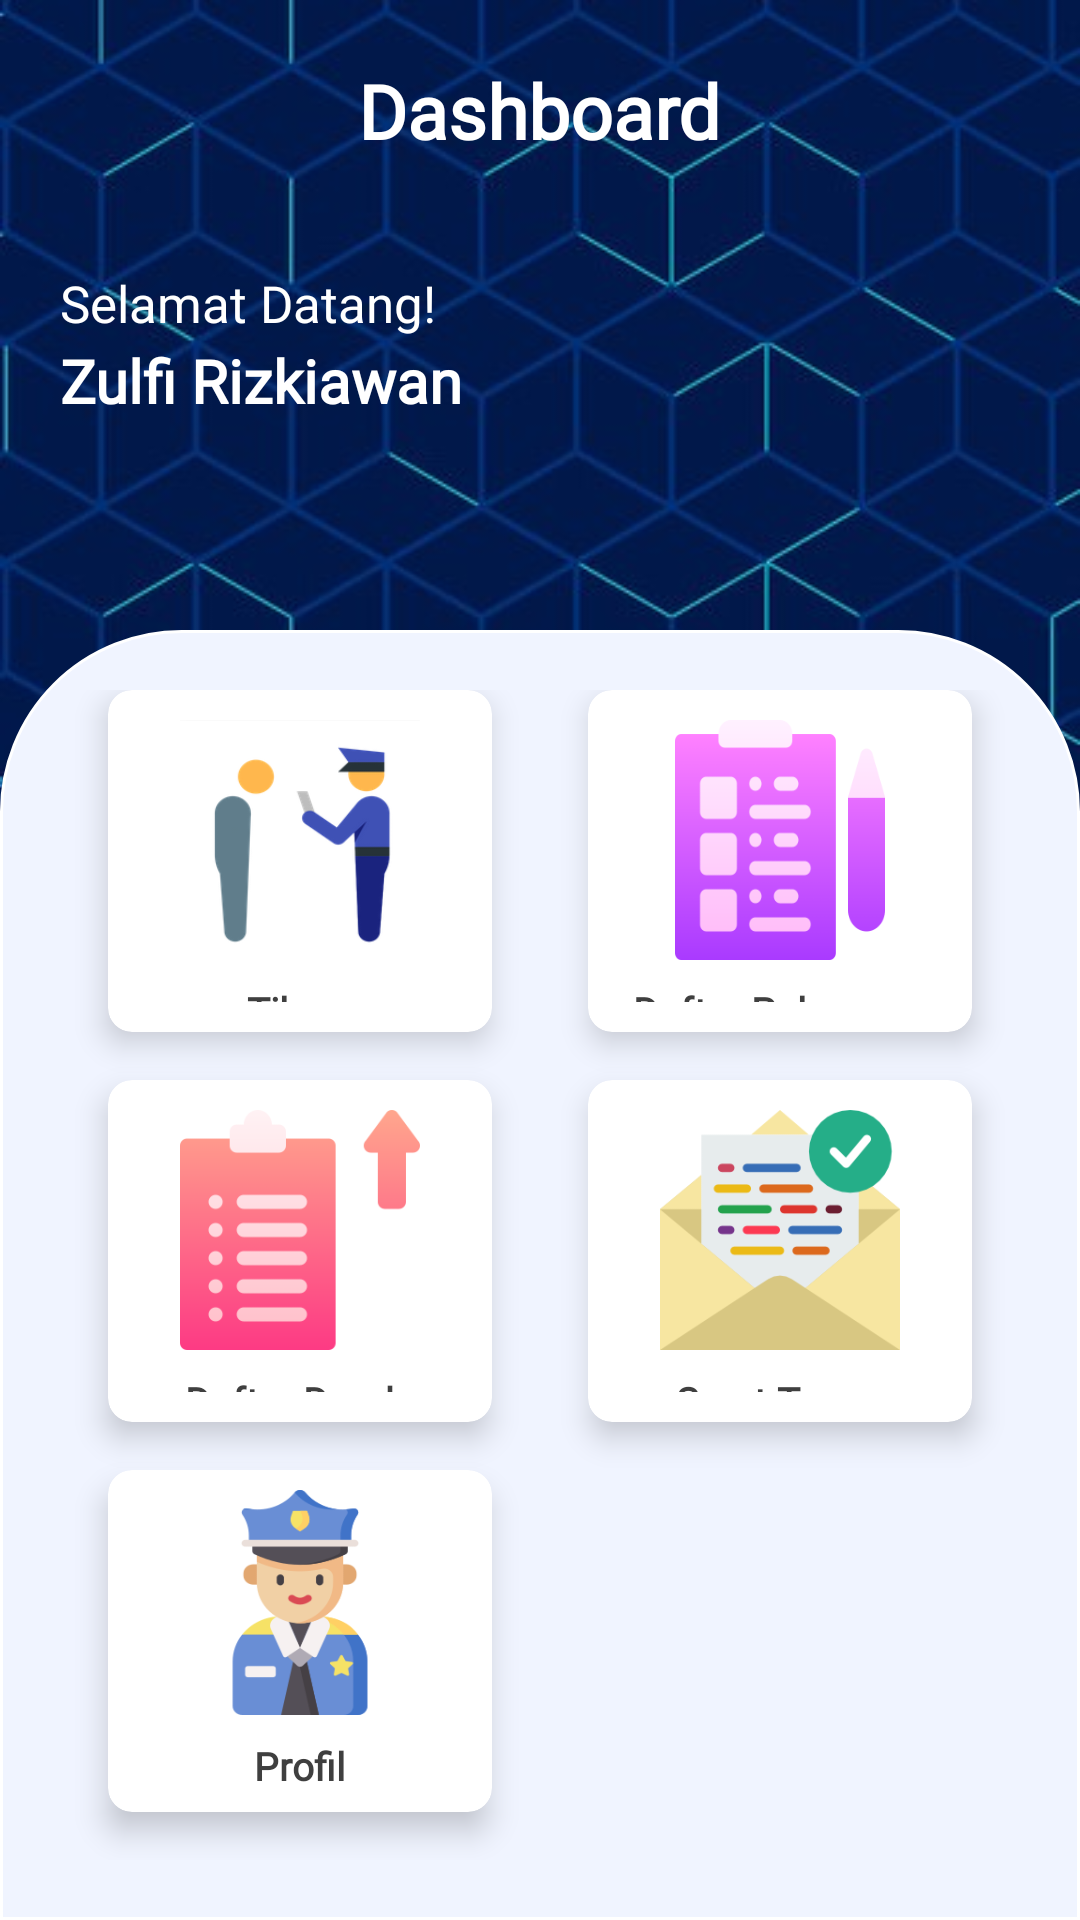

Icon click points for this 1080 × 1920 phone screenshot, format point (x, y):
police: point (300, 1602)
